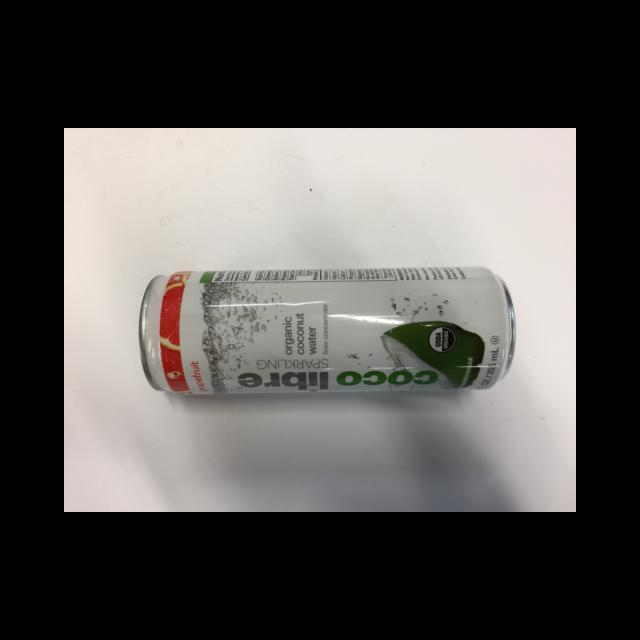metal: (138, 266, 515, 393)
